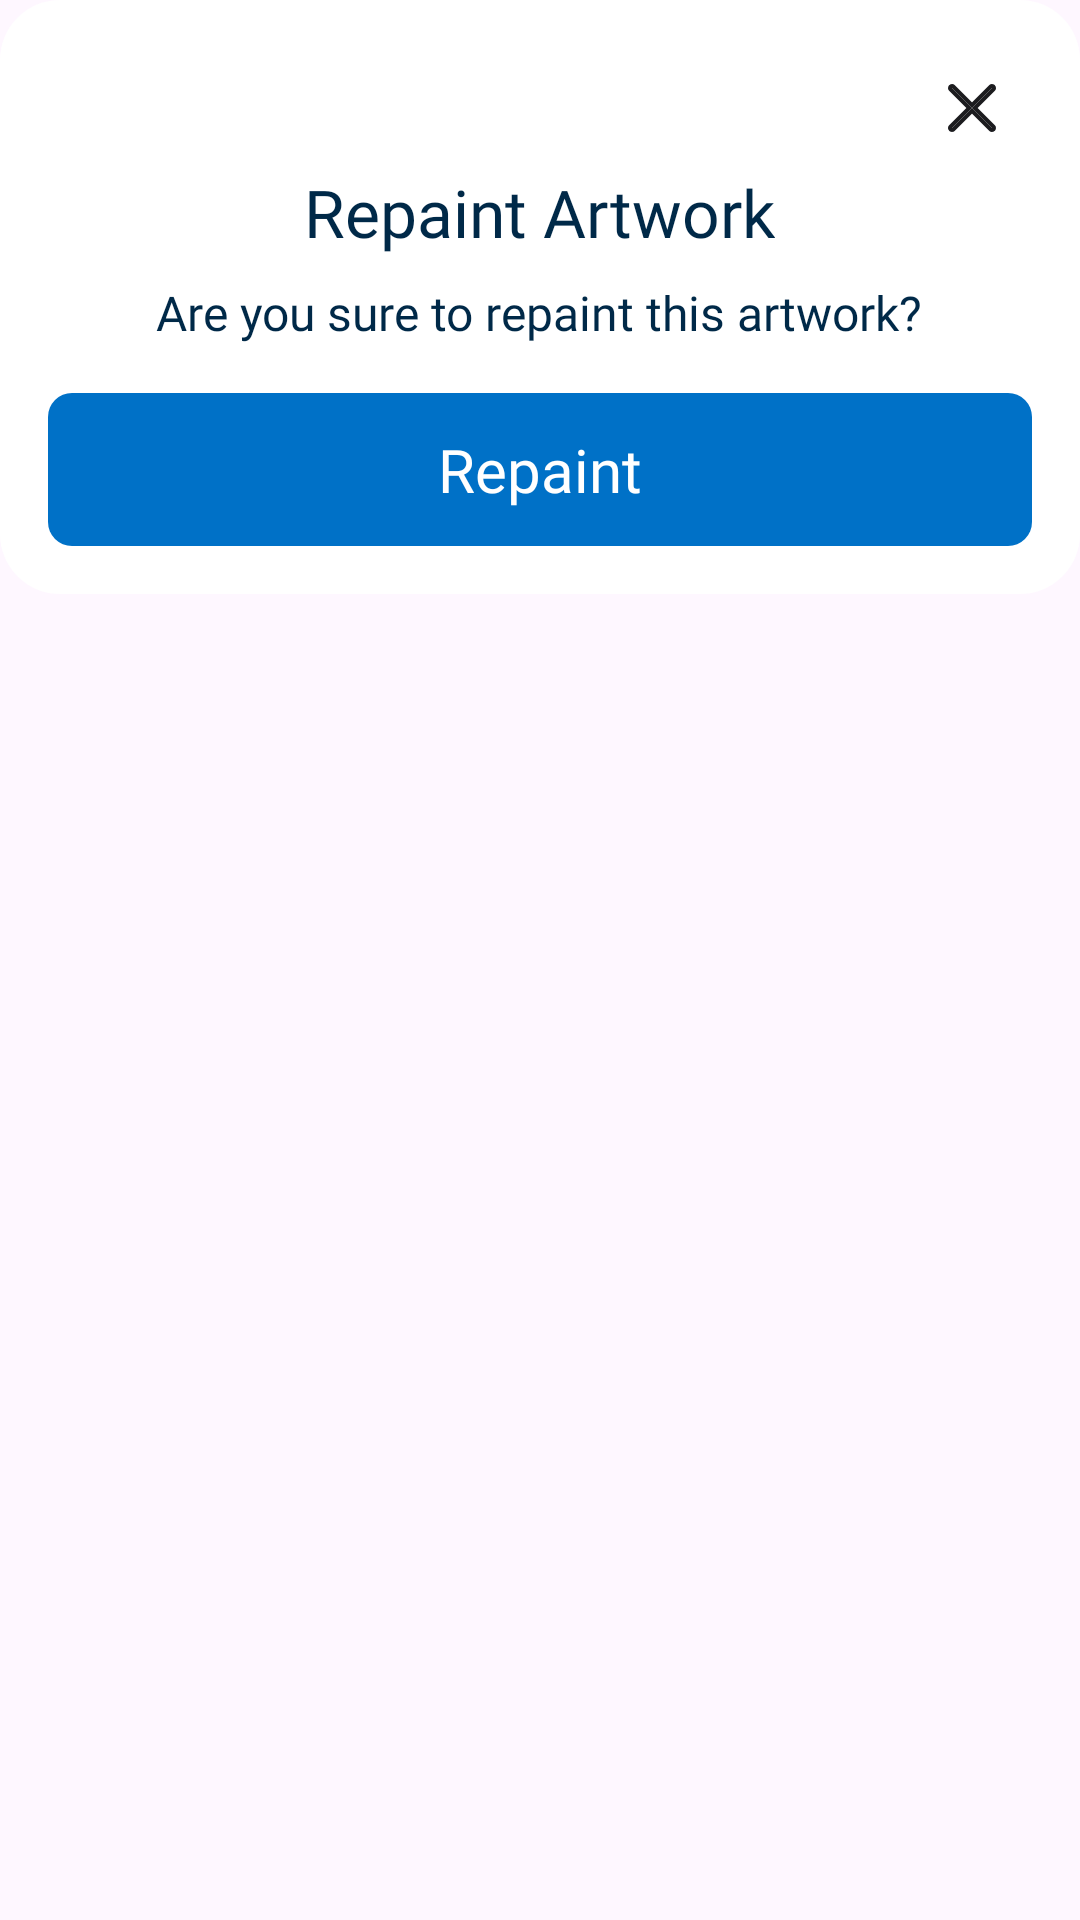

Point at icon controls on the screen. Image size 1080px x 1920px, points as [x,y].
close ads: [972,108]
